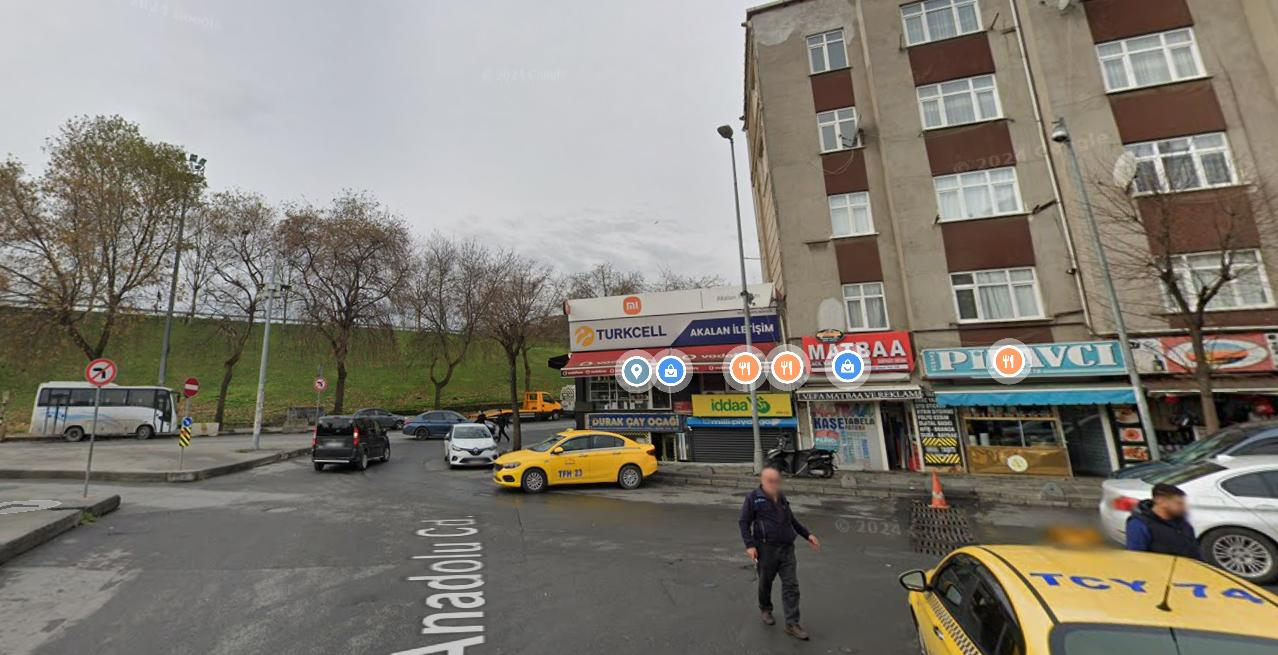leftturnsareforbidden: (85, 359, 116, 384), (314, 377, 326, 390)
